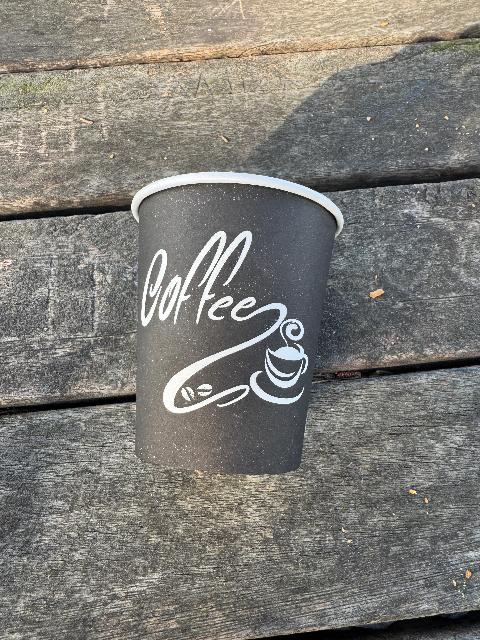Kagit: (112, 156, 352, 493)
